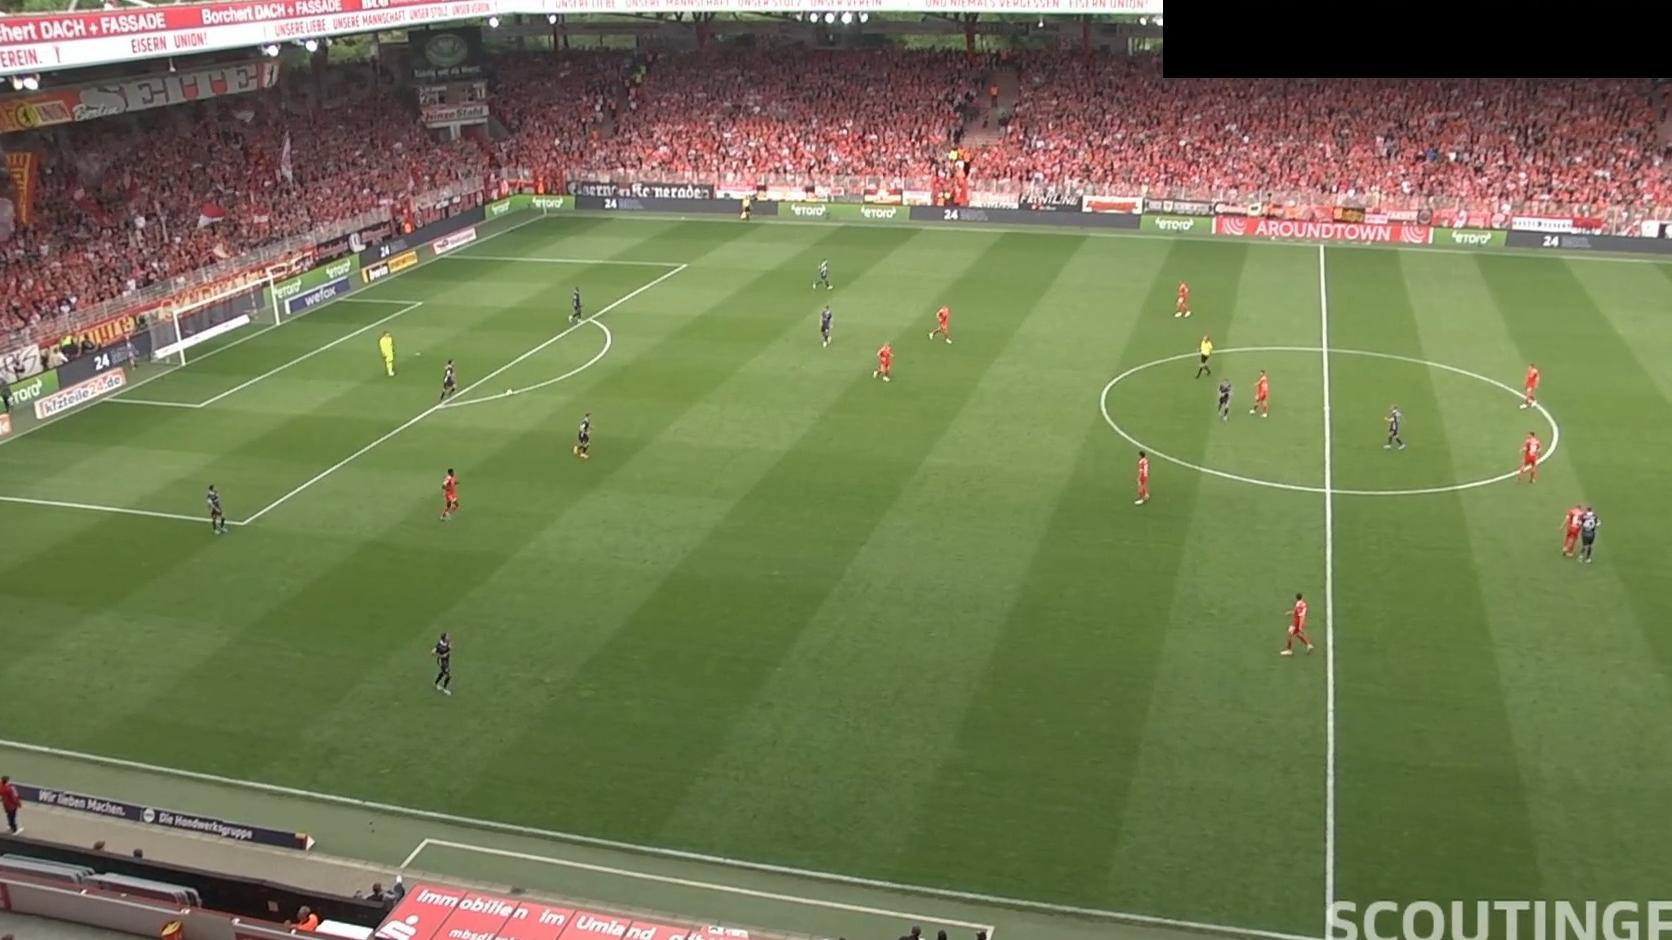ball: (505, 388, 513, 397)
